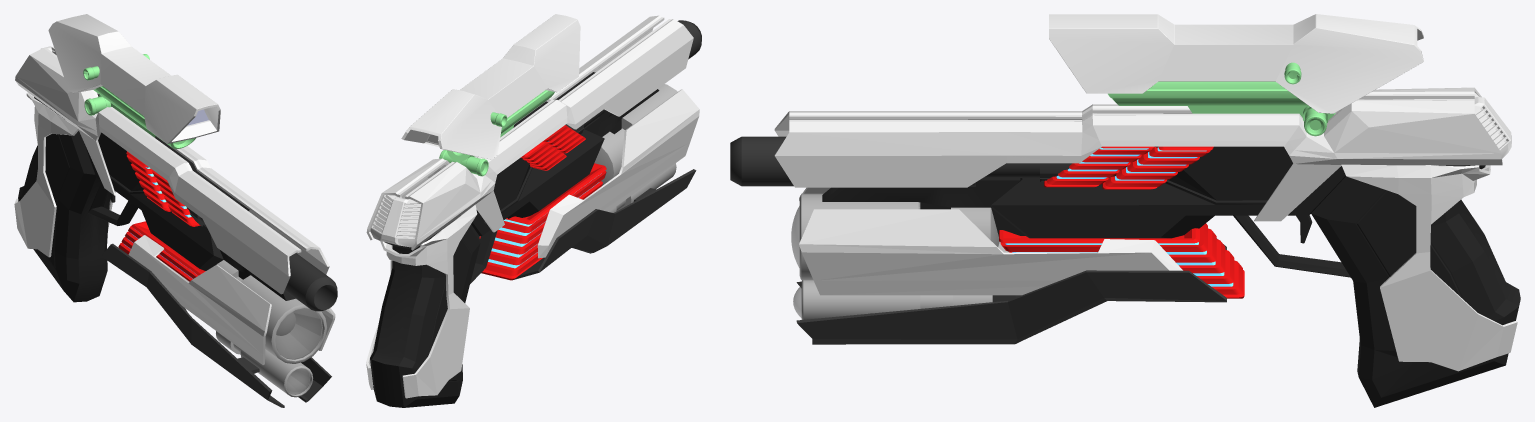
Rendered from GunSciFi.FBX.
The picture shows the model from 3 angles, left to right: view 1: azimuth 30°, elevation 25°; view 2: azimuth 150°, elevation 25°; view 3: azimuth 270°, elevation 25°; orthographic projection. The views are drawn at different scales.
Parts seen in each view (by area): view 1: Wight, Base, Dulo, FlashLights, Glass; view 2: Wight, Base, Dulo, FlashLights; view 3: Wight, Base, Dulo, FlashLights.
Part boxes in pixels (x1,y1,x2,y2): Wight: (14, 14, 335, 364); Base: (18, 94, 295, 302); Dulo: (83, 54, 337, 407); FlashLights: (216, 260, 326, 397); Glass: (187, 109, 322, 394); Wight: (366, 14, 699, 398); Base: (370, 72, 659, 407); Dulo: (439, 20, 701, 280); FlashLights: (594, 84, 677, 212); Wight: (774, 14, 1517, 371); Base: (822, 119, 1520, 407); Dulo: (730, 62, 1335, 344); FlashLights: (799, 193, 999, 319).
Size of the model in its own units: 13.72 by 41.72 by 78.18.
